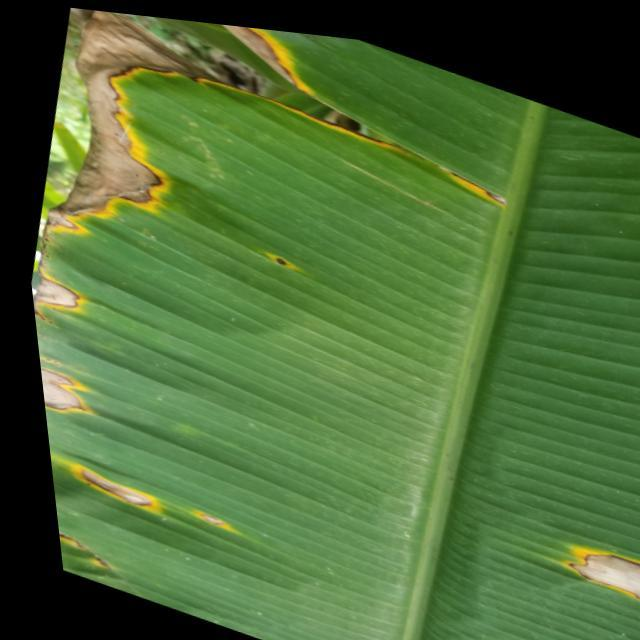Early_rust: (53, 4, 525, 224), (59, 458, 250, 558), (28, 195, 125, 343), (551, 507, 640, 622), (21, 348, 111, 443), (60, 528, 125, 591), (261, 235, 308, 298)
